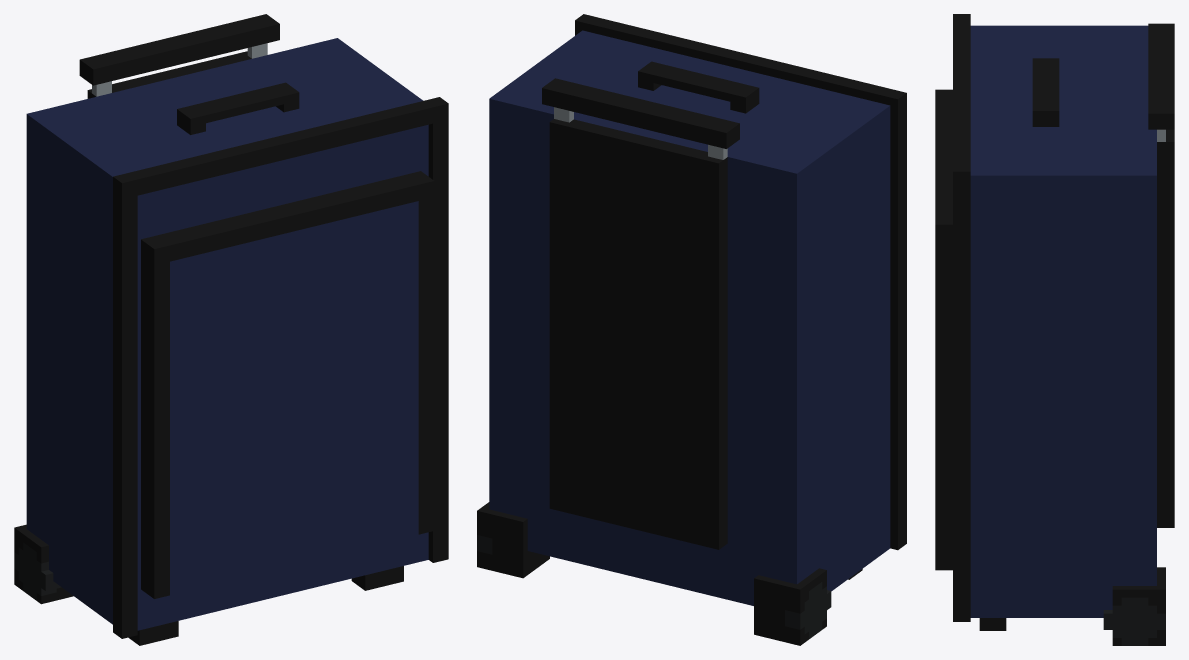
The model's file is suitcase_m.glb.
The picture shows the model from 3 angles, left to right: view 1: azimuth 30°, elevation 25°; view 2: azimuth 150°, elevation 25°; view 3: azimuth 270°, elevation 25°; orthographic projection.
Visible parts, largest first — view 1: suitcase_m:compound; view 2: suitcase_m:compound; view 3: suitcase_m:compound.
Part boxes in pixels (x1,y1,x2,y2): suitcase_m:compound: [14, 14, 448, 645]; suitcase_m:compound: [477, 14, 906, 645]; suitcase_m:compound: [935, 14, 1174, 645].
Bounding box in the file's own units: 0.42 × 0.62 × 0.27.
